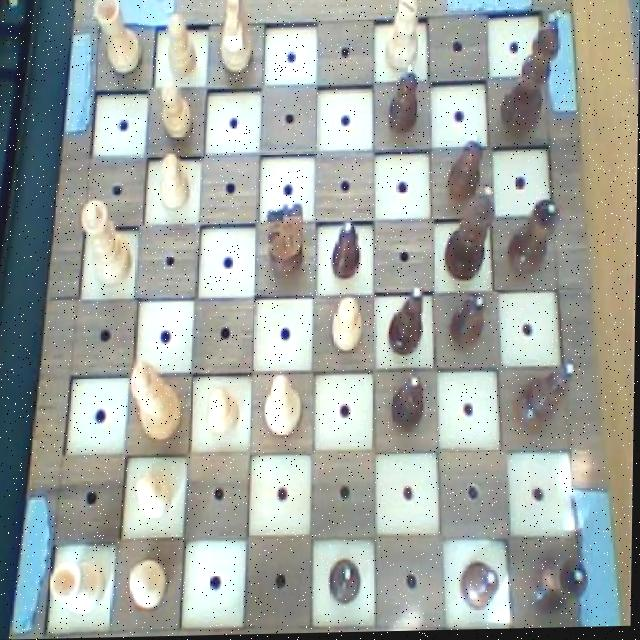bishop: (512, 362, 577, 440), (386, 283, 428, 360)
black-bishop: (497, 7, 563, 139)
black-king: (260, 193, 310, 285)
black-knight: (446, 130, 488, 211), (445, 288, 492, 354), (384, 62, 422, 139), (457, 556, 509, 612), (387, 369, 428, 437), (329, 217, 365, 285), (328, 552, 366, 610)
black-pawn: (439, 187, 496, 288)
black-queen: (504, 196, 561, 281), (527, 554, 593, 617)
black-rook: (380, 0, 424, 78), (262, 370, 308, 442)
white-bishop: (128, 355, 185, 444)
white-king: (214, 0, 257, 78)
white-knight: (161, 7, 201, 83), (328, 295, 370, 360), (154, 152, 196, 216), (128, 555, 174, 613), (157, 80, 196, 145), (133, 471, 178, 526), (204, 385, 244, 442)
white-pawn: (79, 194, 136, 291)
white-queen: (91, 0, 145, 81), (48, 553, 110, 620)
